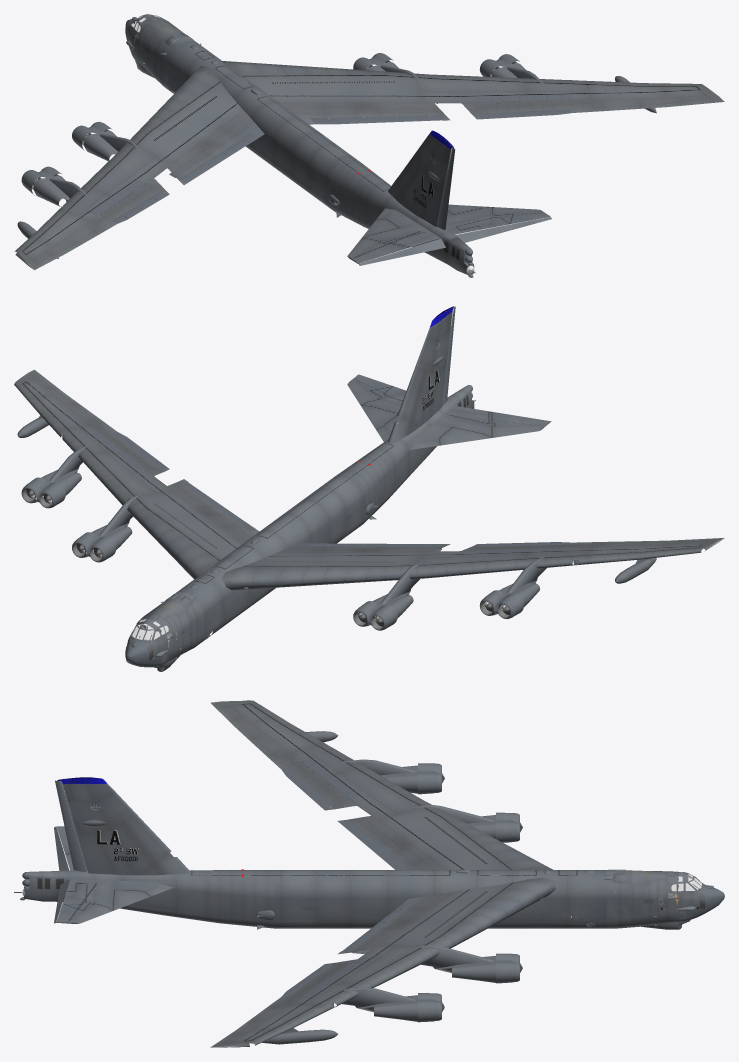
File: stratofortress.glb
3 views of the same model, one above another, from view 1: azimuth 30°, elevation 25°; view 2: azimuth 150°, elevation 25°; view 3: azimuth 270°, elevation 25° (orthographic). The views are drawn at different scales.
Parts seen in each view (by area): view 1: WingRight_11, WingLeft_10, Fuselage_12, HorizontalStabilizers_4, Engines_1, VerticalStabilizer_9, Rudder_8; view 2: Fuselage_12, WingRight_11, WingLeft_10, Engines_1, HorizontalStabilizers_4, VerticalStabilizer_9, RandomStuff_5; view 3: Fuselage_12, WingLeft_10, WingRight_11, Engines_1, VerticalStabilizer_9, HorizontalStabilizers_4, Rudder_8.
Part boxes in pixels (bbox=[...]): WingRight_11: bbox=[222, 61, 724, 124]; WingLeft_10: bbox=[14, 65, 264, 270]; Fuselage_12: bbox=[125, 14, 474, 277]; HorizontalStabilizers_4: bbox=[347, 204, 551, 265]; Engines_1: bbox=[17, 53, 656, 258]; VerticalStabilizer_9: bbox=[388, 130, 454, 227]; Rudder_8: bbox=[437, 147, 455, 229]; Fuselage_12: bbox=[125, 385, 474, 667]; WingRight_11: bbox=[14, 369, 259, 579]; WingLeft_10: bbox=[221, 538, 724, 590]; Engines_1: bbox=[17, 415, 656, 630]; HorizontalStabilizers_4: bbox=[347, 374, 551, 449]; VerticalStabilizer_9: bbox=[388, 306, 454, 443]; RandomStuff_5: bbox=[23, 400, 577, 659]; Fuselage_12: bbox=[20, 869, 724, 929]; WingLeft_10: bbox=[210, 700, 552, 869]; WingRight_11: bbox=[210, 877, 555, 1047]; Engines_1: bbox=[262, 731, 522, 1044]; VerticalStabilizer_9: bbox=[57, 777, 190, 875]; HorizontalStabilizers_4: bbox=[54, 826, 173, 923]; Rudder_8: bbox=[55, 780, 87, 872].
Bounding box in the file's own units: 55.98 × 11.14 × 48.78.
27 materials, 22 textured.
